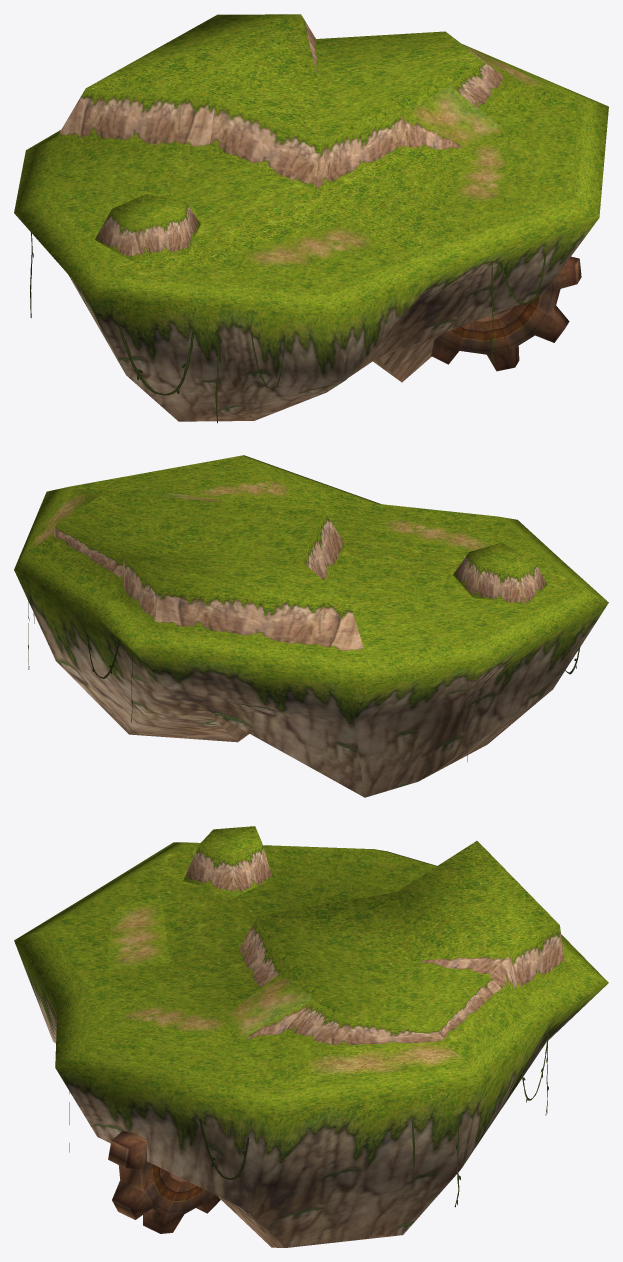
File: obj_maflprflis01.glb
3 views of the same model, one above another, from view 1: azimuth 30°, elevation 25°; view 2: azimuth 150°, elevation 25°; view 3: azimuth 270°, elevation 25° (orthographic). The views are drawn at different scales.
Visible parts, largest first — view 1: part_0; view 2: part_0; view 3: part_0.
Boxes of the visible parts, bbox=[...] form: part_0: bbox=[14, 14, 608, 423]; part_0: bbox=[14, 455, 608, 797]; part_0: bbox=[14, 826, 608, 1247].
Size of the model in its own units: 25.15 by 11.99 by 21.52.
4 materials, 4 textured.
